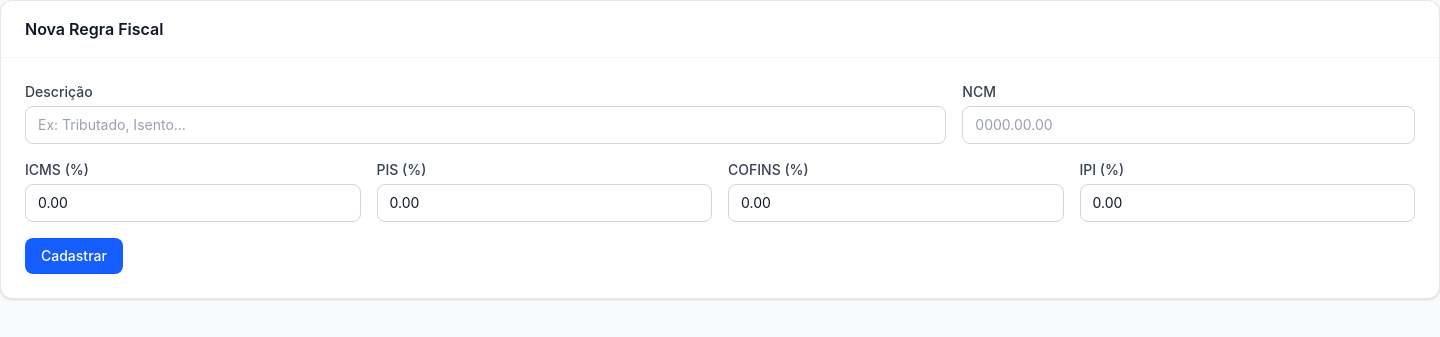
Test: RegraFiscalForm › should require descricao
Click the button "Cadastrar" at (74, 256), box [25,238,123,274]
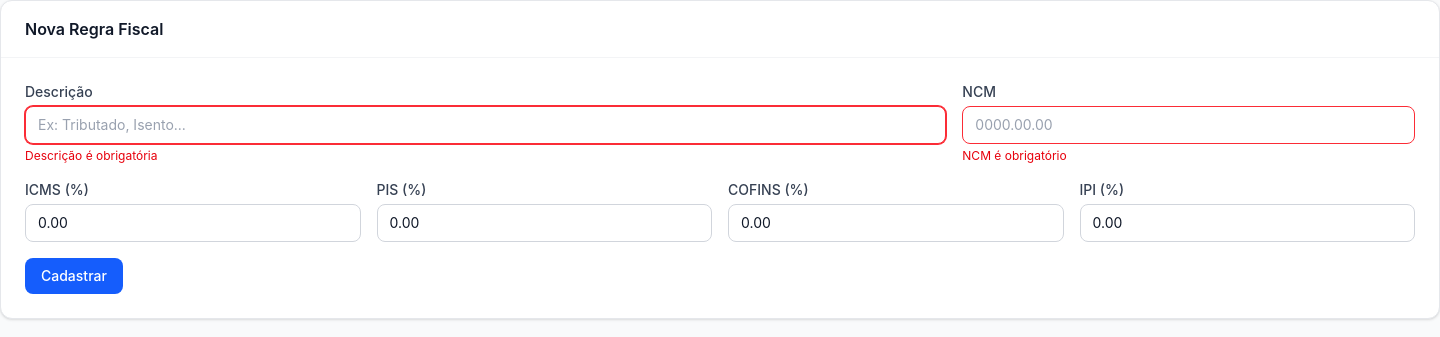
Now the text "Descrição é obrigatória" is shown, box [25,148,158,163]
